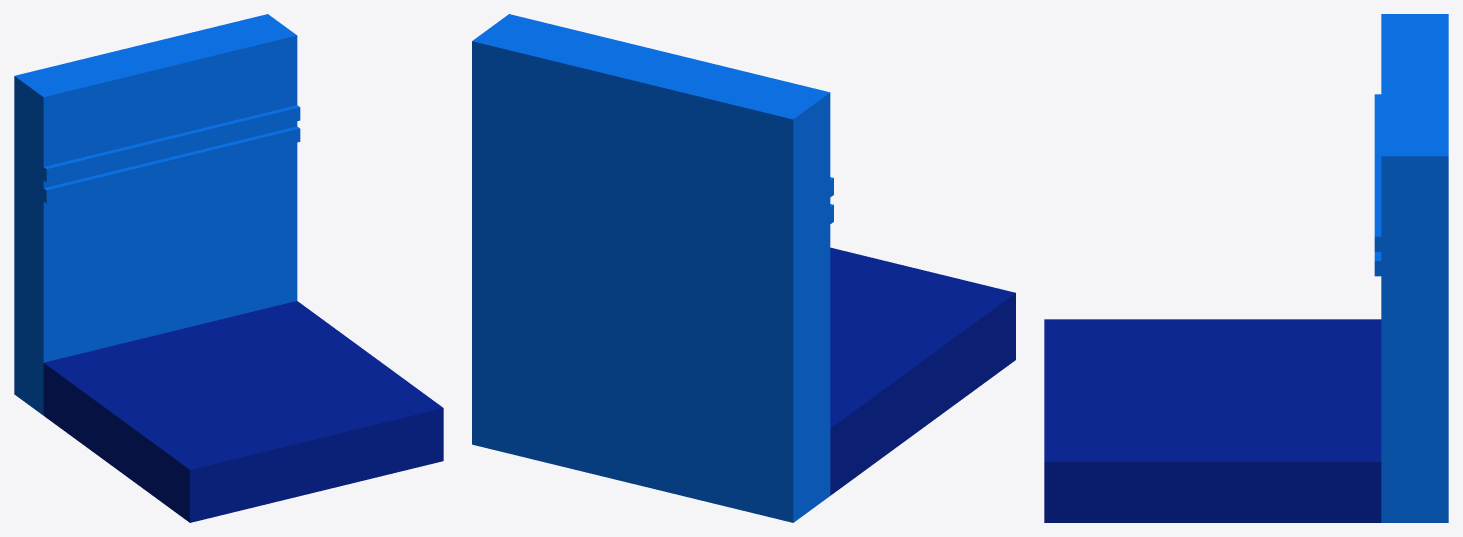
The model's file is arcade_tile_wall.fbx.
3 renders of one model, left to right at view 1: azimuth 30°, elevation 25°; view 2: azimuth 150°, elevation 25°; view 3: azimuth 270°, elevation 25°, orthographic. The views are drawn at different scales.
Visible parts, largest first — view 1: wall, tile_wall; view 2: wall, tile_wall; view 3: tile_wall, wall.
Boxes of the visible parts, <box> form: wall: <box>14,14,300,415</box>; tile_wall: <box>43,301,443,522</box>; wall: <box>472,14,833,522</box>; tile_wall: <box>830,247,1015,495</box>; tile_wall: <box>1044,319,1381,522</box>; wall: <box>1374,14,1448,522</box>.
Size of the model in its own units: 5 by 6 by 6.
